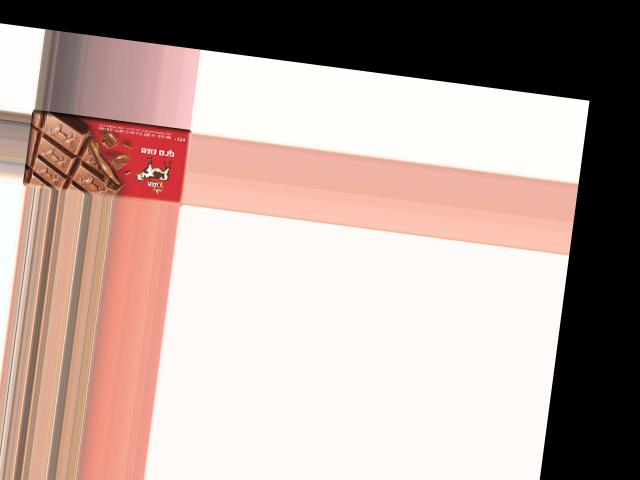chocolate: (24, 110, 192, 206)
